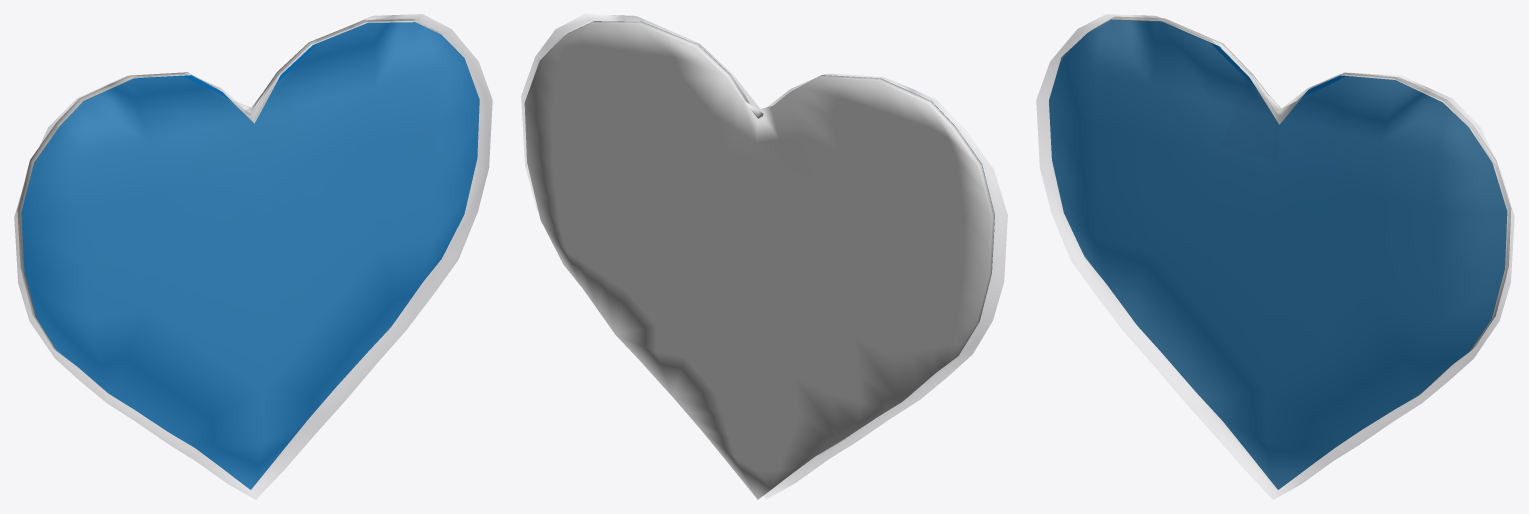
File: heart_blue.glb
The picture shows the model from 3 angles, left to right: view 1: azimuth 30°, elevation 25°; view 2: azimuth 150°, elevation 25°; view 3: azimuth 330°, elevation 25°; orthographic projection.
Parts seen in each view (by area): view 1: 平面, PHOTO_PLANE, 平面11; view 2: 平面11, 平面; view 3: 平面, PHOTO_PLANE, 平面11.
Part boxes in pixels (left/top/right/bottom): 平面: left=14, top=14, right=492, bottom=499; PHOTO_PLANE: left=21, top=22, right=479, bottom=489; 平面11: left=17, top=19, right=439, bottom=391; 平面11: left=524, top=21, right=994, bottom=499; 平面: left=521, top=14, right=1007, bottom=498; 平面: left=1036, top=14, right=1514, bottom=499; PHOTO_PLANE: left=1049, top=19, right=1507, bottom=489; 平面11: left=1091, top=16, right=1511, bottom=394.
Bounding box in the file's own units: 2.28 × 2.05 × 0.1344.
